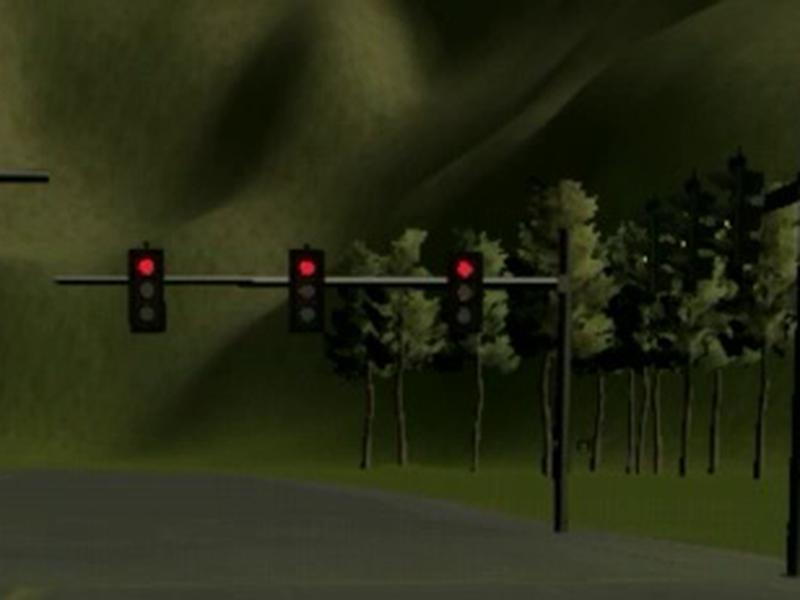Red: (127, 248, 167, 333), (288, 247, 325, 333), (447, 250, 485, 332)
